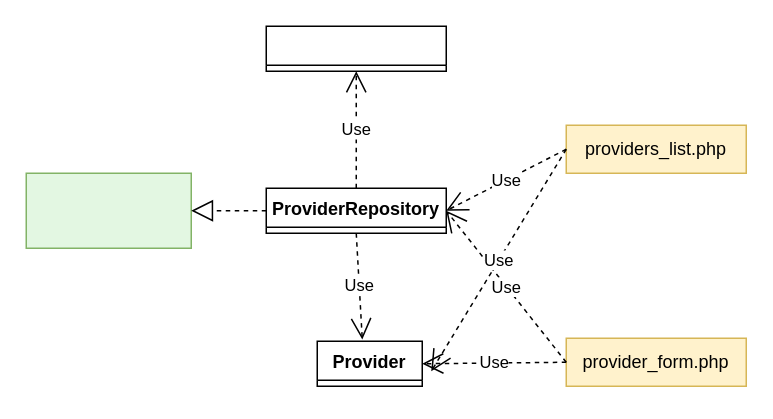
Image size: 773x419. Some labels were removed from this diagram. Each missing label, with the box of its shape:
DBConnection: (265, 25, 446, 71)
«interface» IDbAccess: (25, 172, 191, 248)
